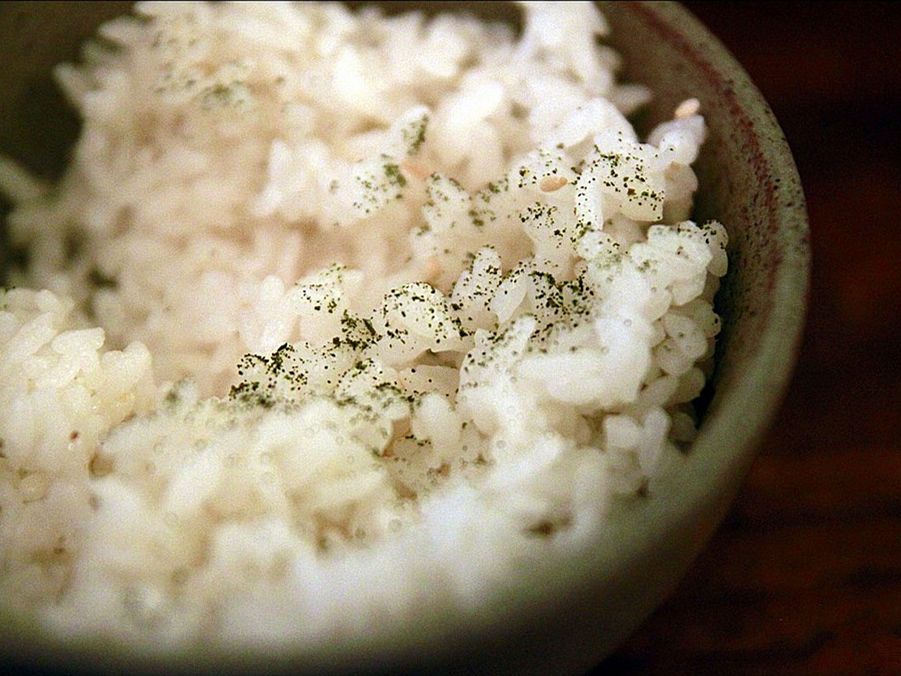plain rice: (13, 45, 679, 581)
